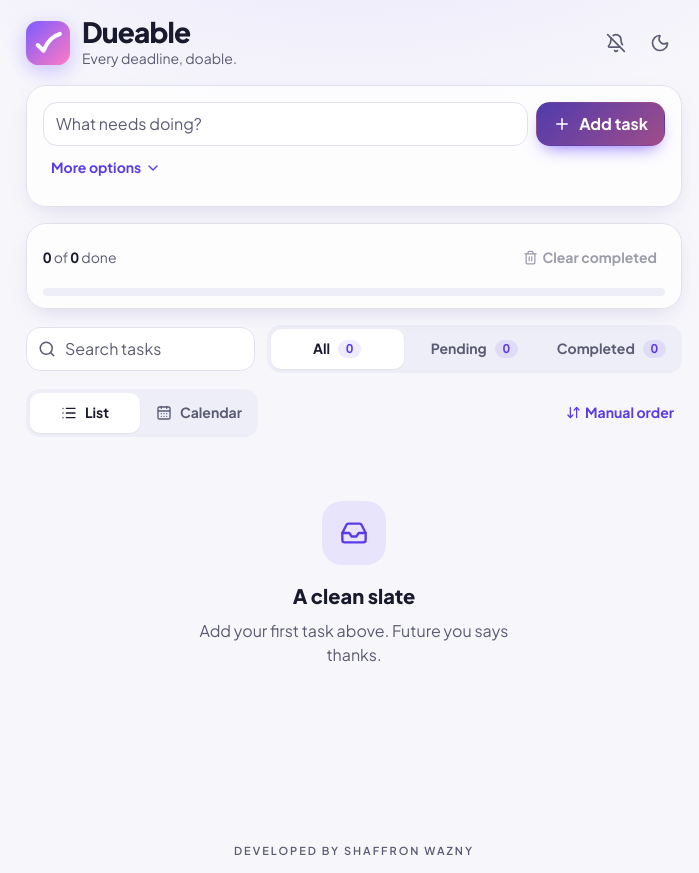
Scenario: Dueable core flows › toggles a task between completed and pending
Type "Flashcards" into the field named "New task title" at (286,124), box [43,102,528,146]
Then press Enter
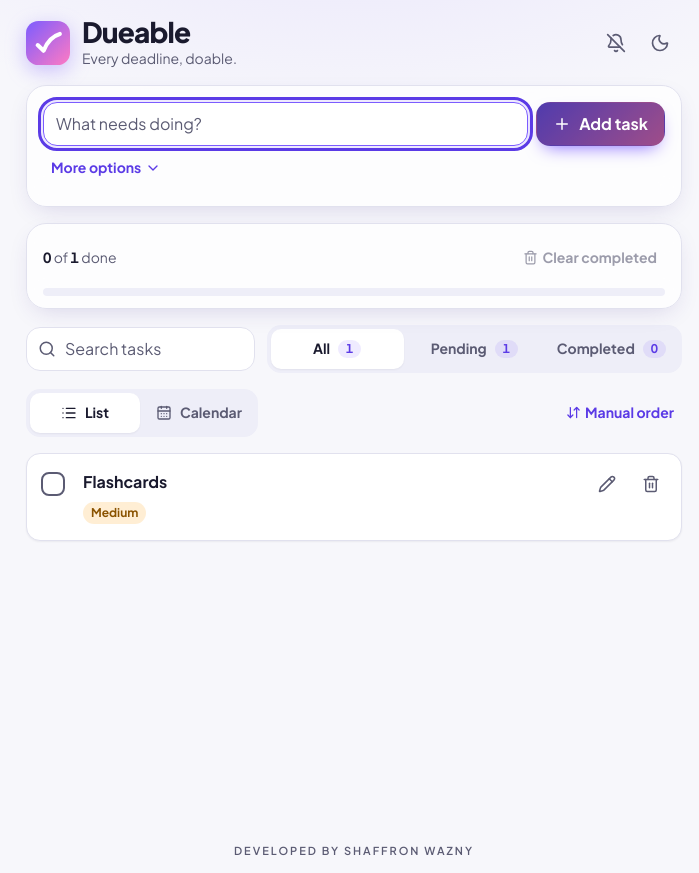
Click the checkbox named "Flashcards" at (53,484), box [41,472,65,496]
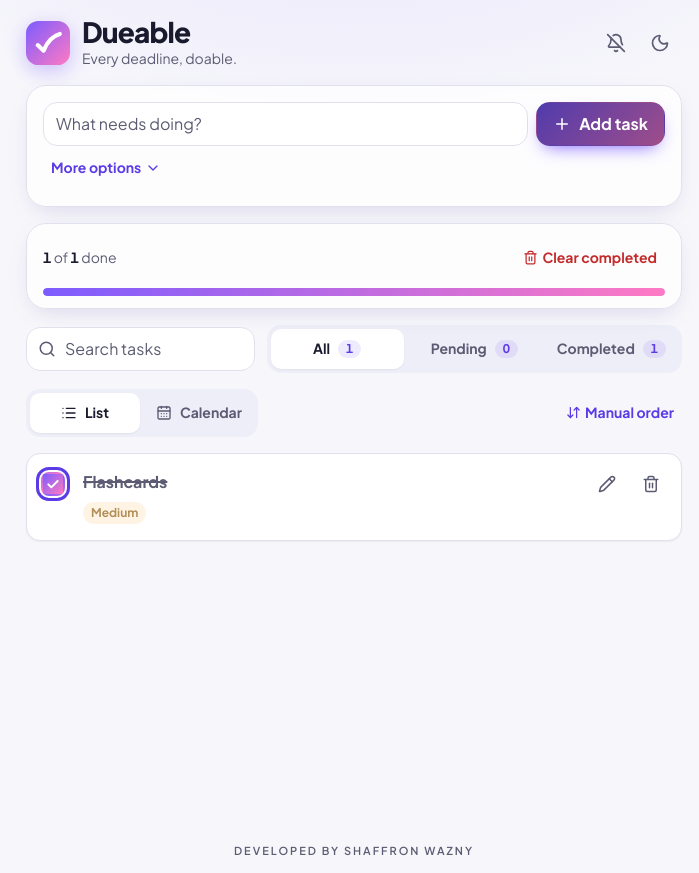
Now the checkbox named "Flashcards" is checked
Now the text "1 of 1 done" is shown, box [43,247,116,268]
Click the checkbox named "Flashcards" at (53,484), box [41,472,65,496]
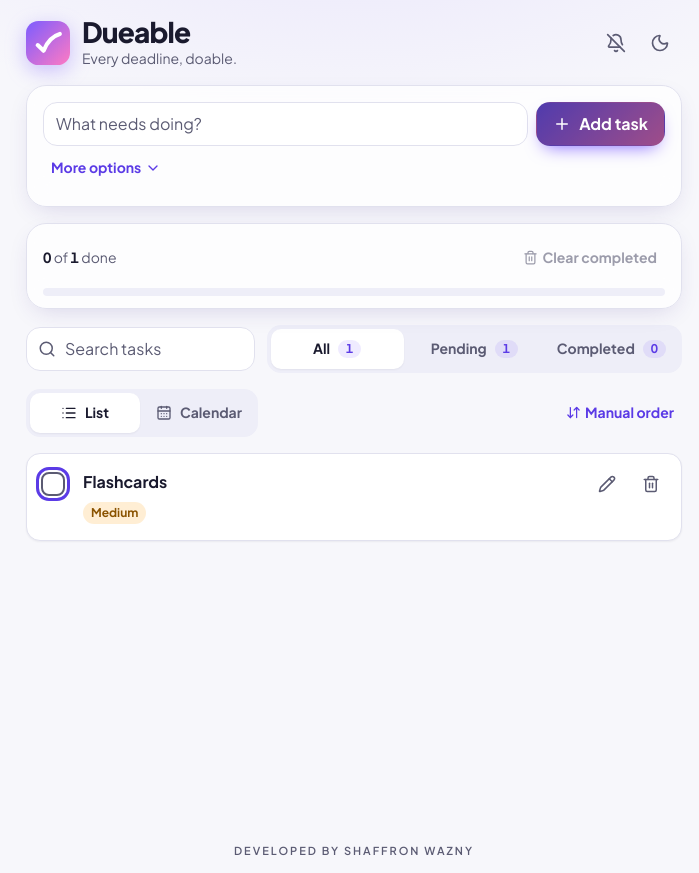
Now the checkbox named "Flashcards" is not checked, box [41,472,65,496]
Now the text "0 of 1 done" is shown, box [43,247,116,268]
